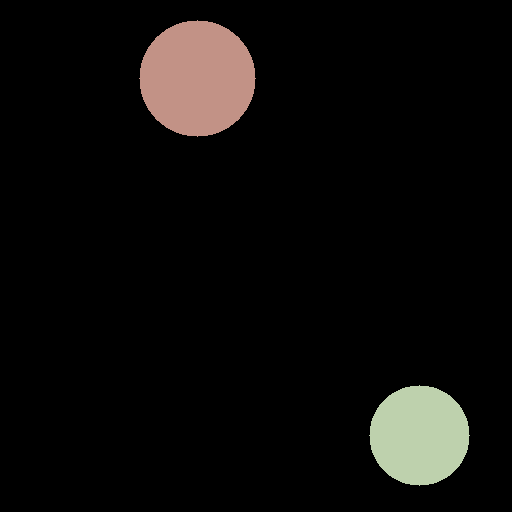circle: (139, 20, 255, 136), (369, 385, 469, 485)
